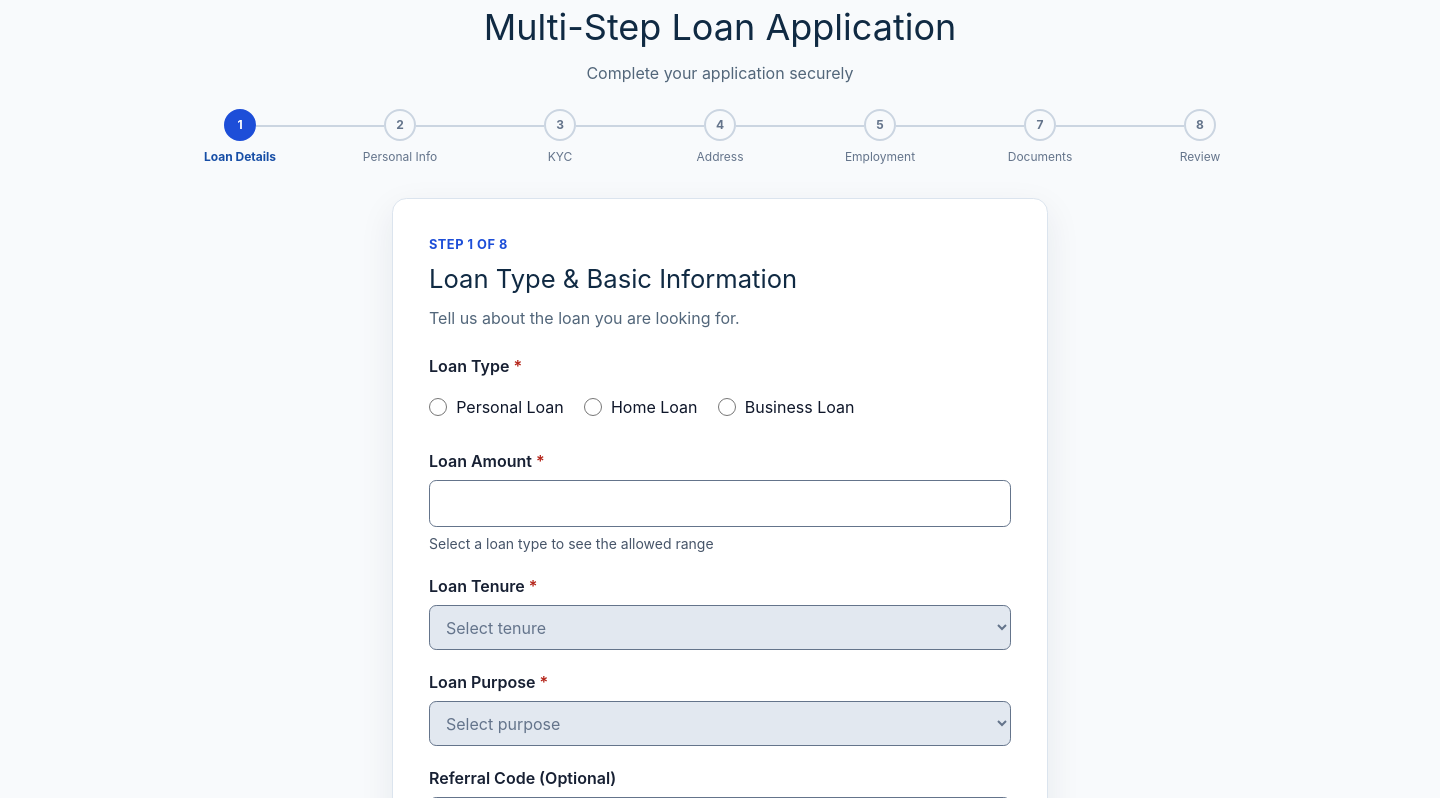
Test case: Day 3 loan application › rejects an excessive Business Loan amount
Step 1. Click the radio button labelled "Business Loan" → click(727, 407), box [718, 398, 736, 416]
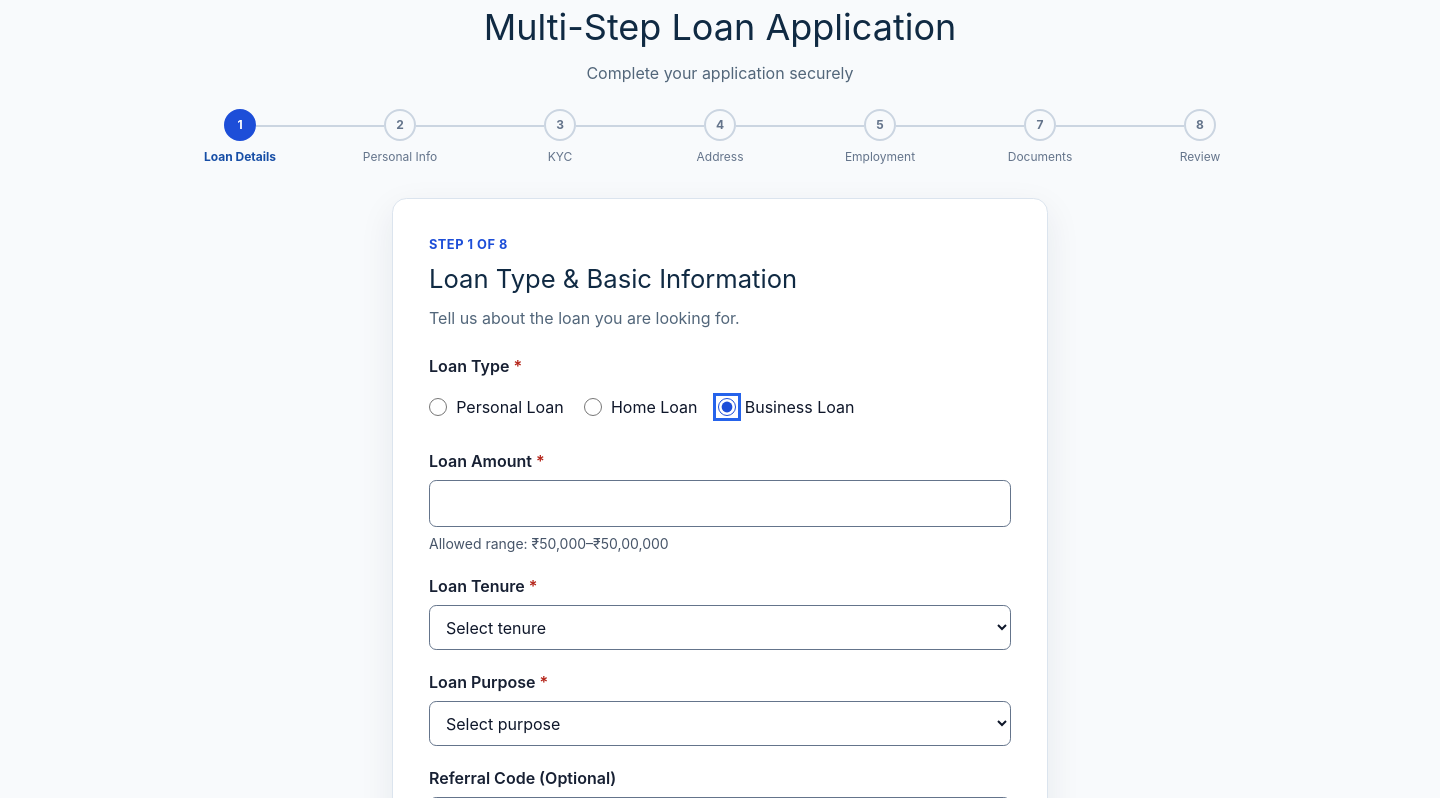
Step 2. Type "5000001" into the field labelled "Loan Amount *" → (720, 504), box [429, 480, 1011, 527]
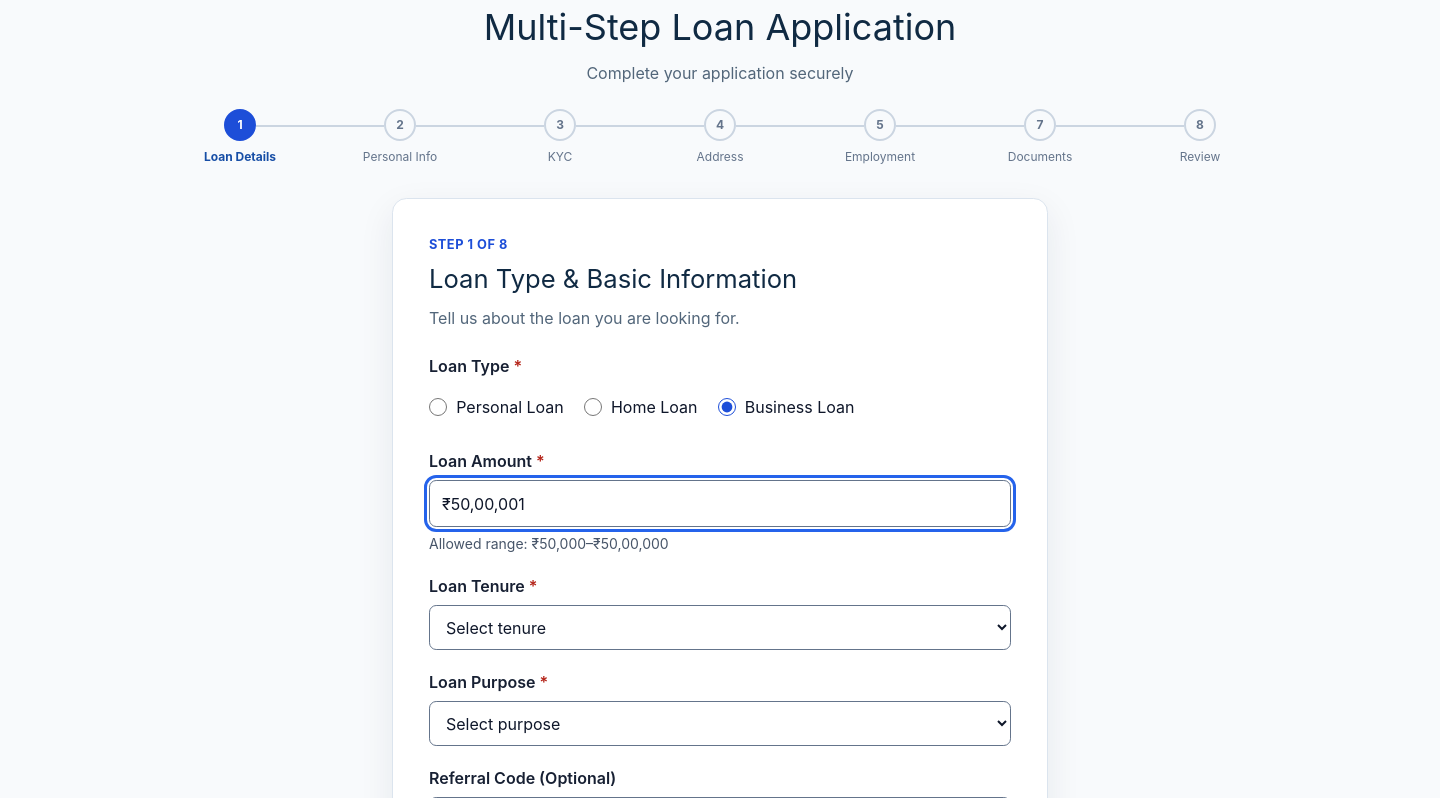
Step 3. Press Tab
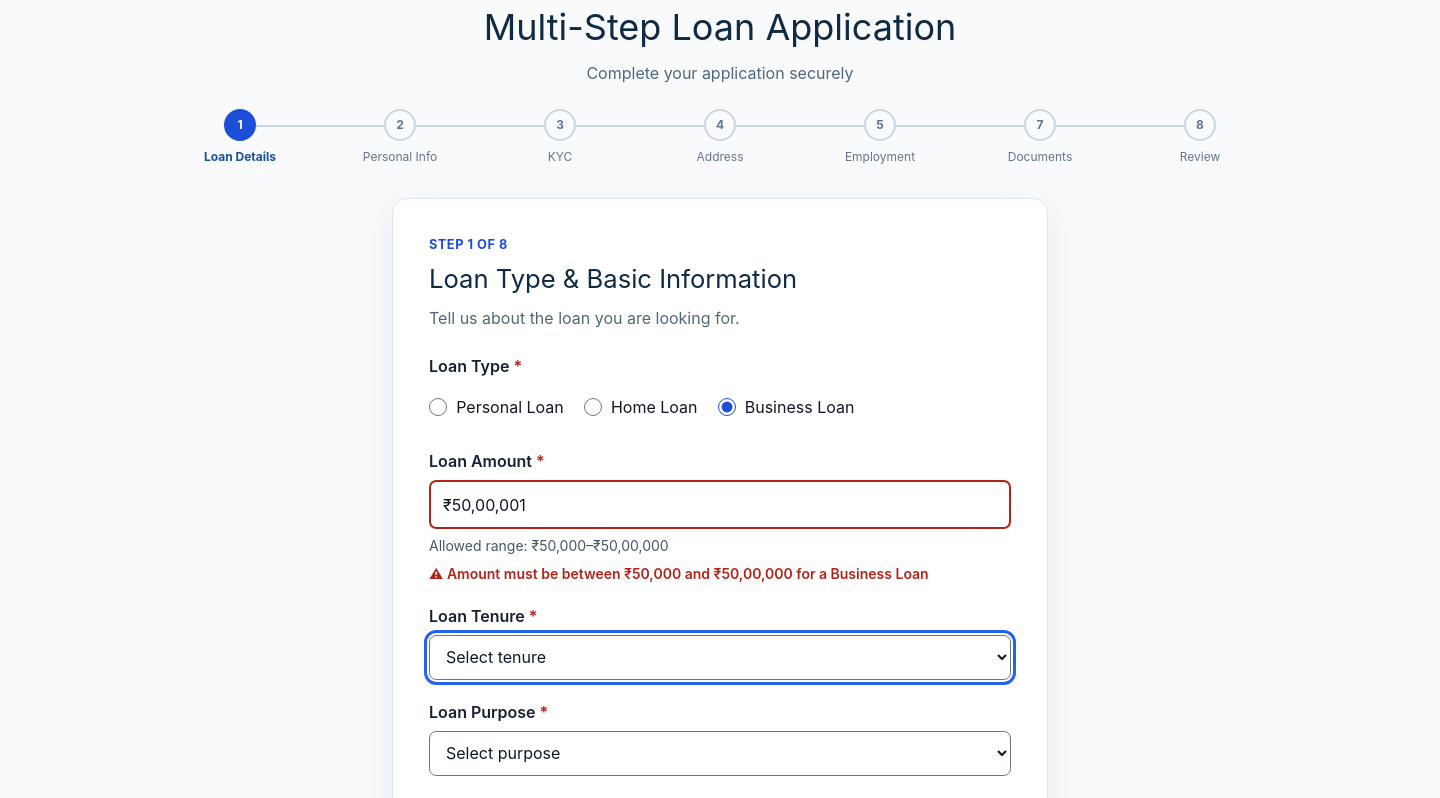
Expected: the text "⚠ Amount must be between ₹50,000 and ₹50,00,000 for a Business Loan" is shown, [429, 563, 1011, 584]
